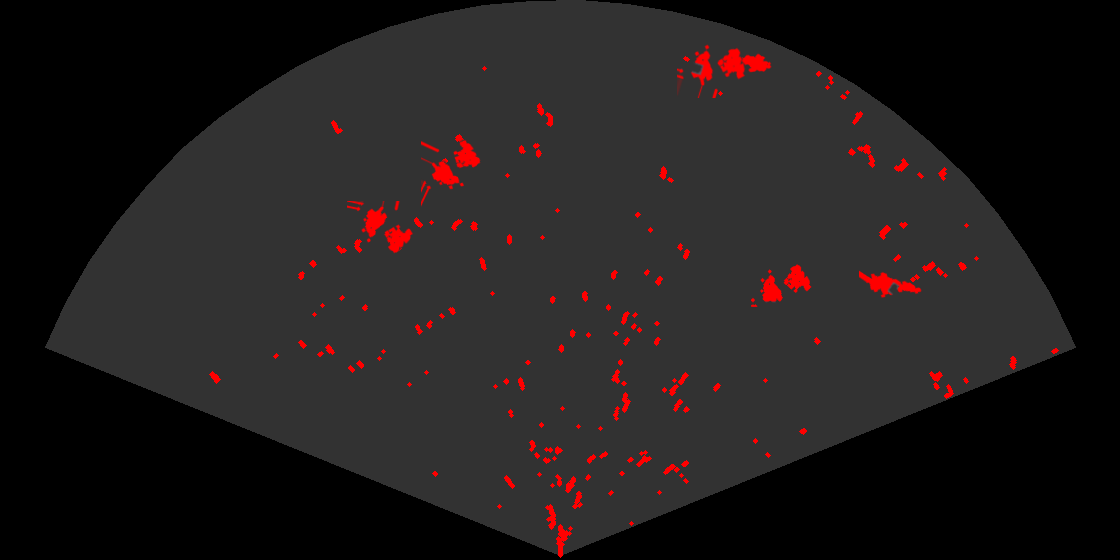AUV: (732, 52, 773, 74)
cage: (421, 138, 482, 207), (677, 43, 747, 98), (347, 201, 415, 255), (751, 263, 813, 307)
frogman: (859, 269, 923, 299)
